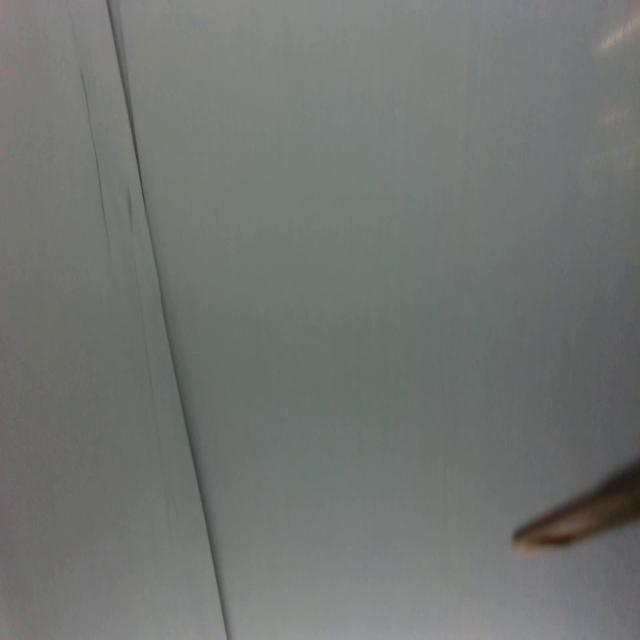crease: (110, 0, 229, 638), (130, 244, 164, 466), (80, 70, 112, 253)
